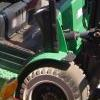Tractor: (2, 2, 100, 100)
